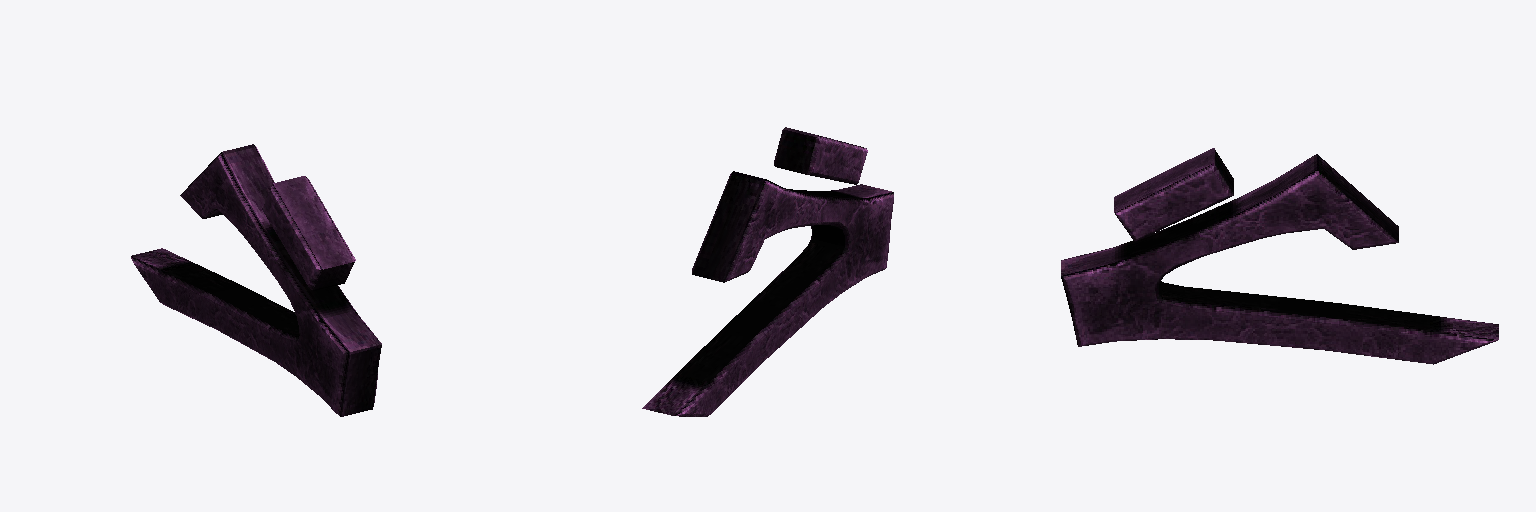
3 renders of one model, left to right at view 1: azimuth 30°, elevation 25°; view 2: azimuth 150°, elevation 25°; view 3: azimuth 270°, elevation 25°, orthographic.
Size of the model in its own units: 3 by 14.8 by 29.17.
Materials: 1 (1 with a texture image).